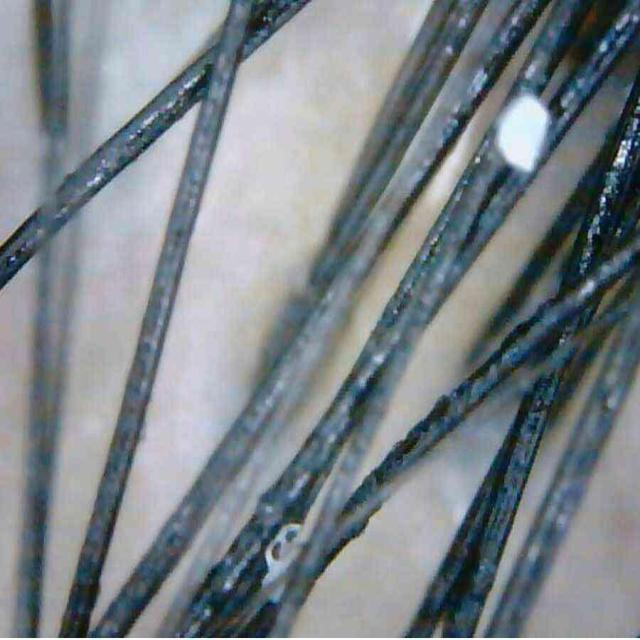d: (496, 95, 550, 172)
